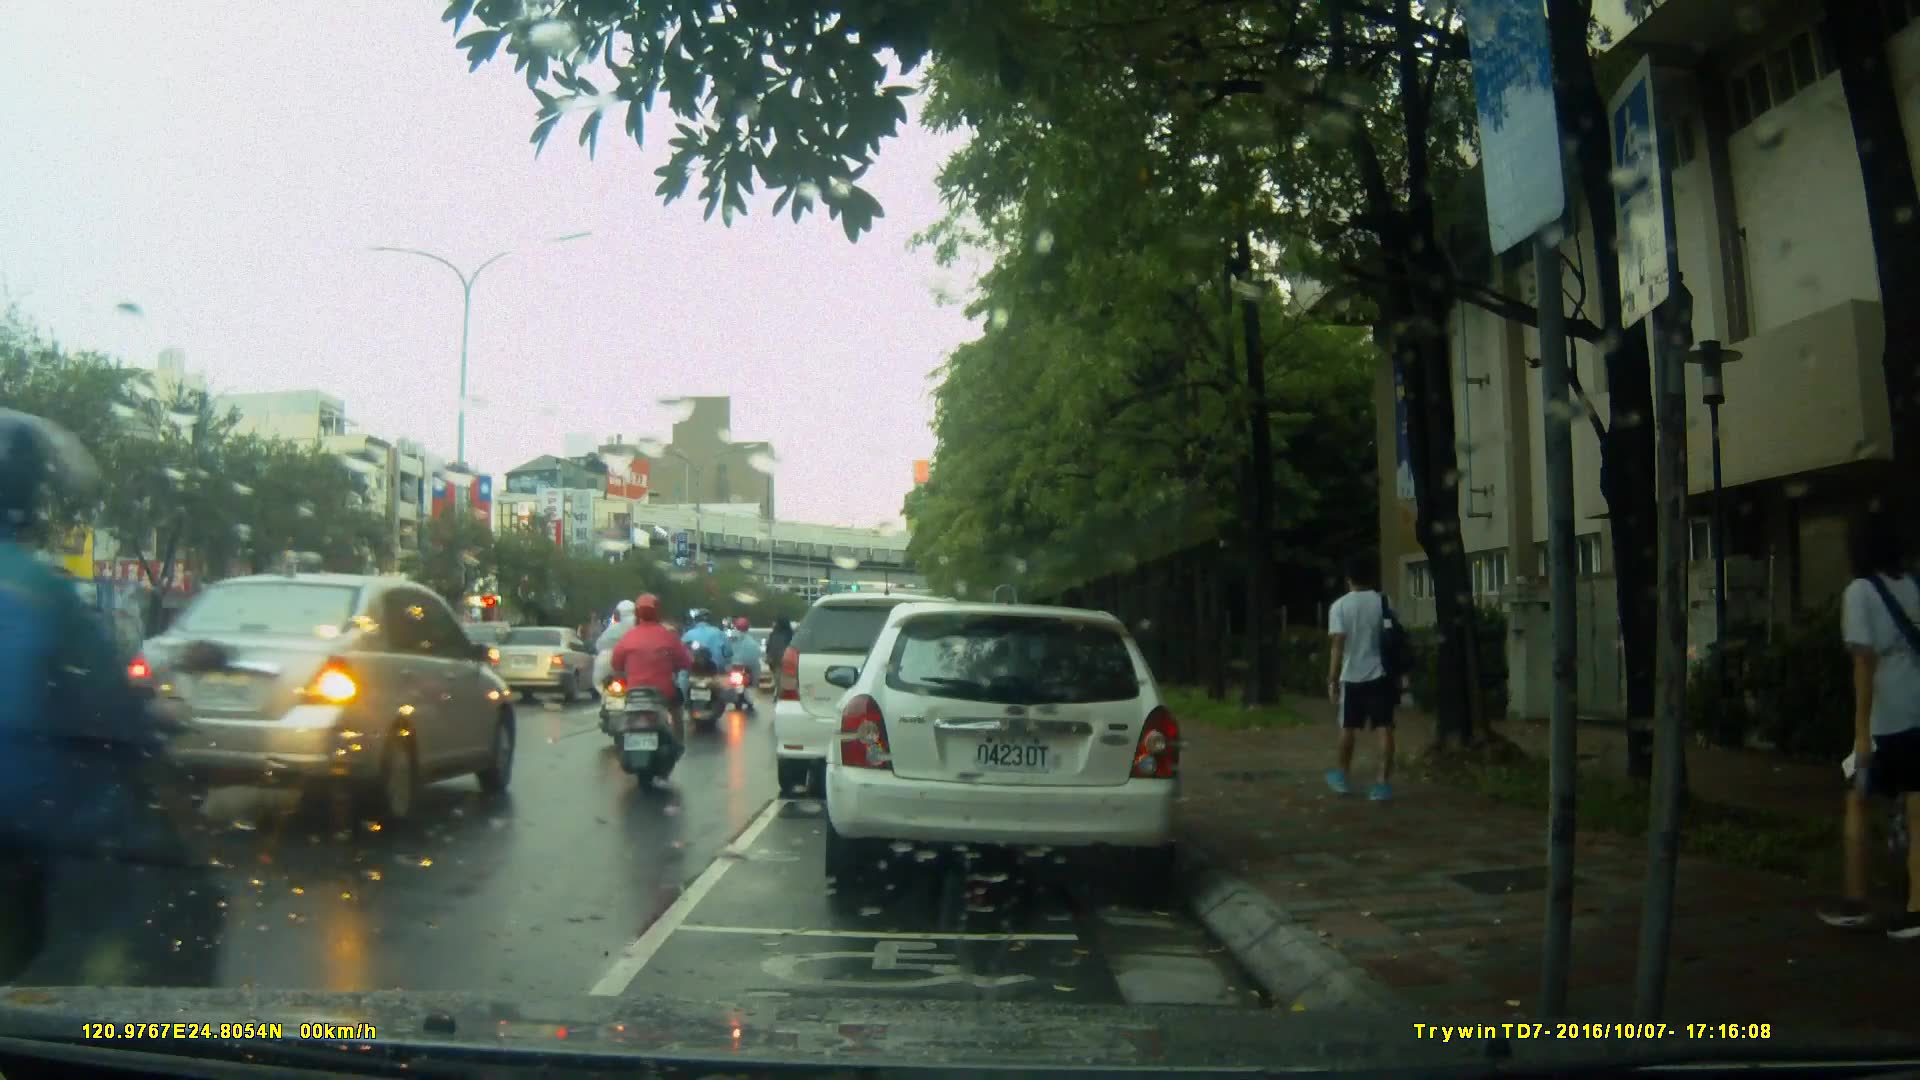pedestrian: (1813, 502, 1920, 940), (1321, 553, 1415, 816)
rider: (1, 428, 261, 1048), (599, 594, 684, 799), (601, 602, 654, 756), (678, 608, 737, 735), (726, 613, 767, 713), (769, 610, 804, 725)
vehicle: (121, 572, 519, 833), (822, 604, 1188, 882), (774, 595, 995, 802), (484, 623, 605, 707)
